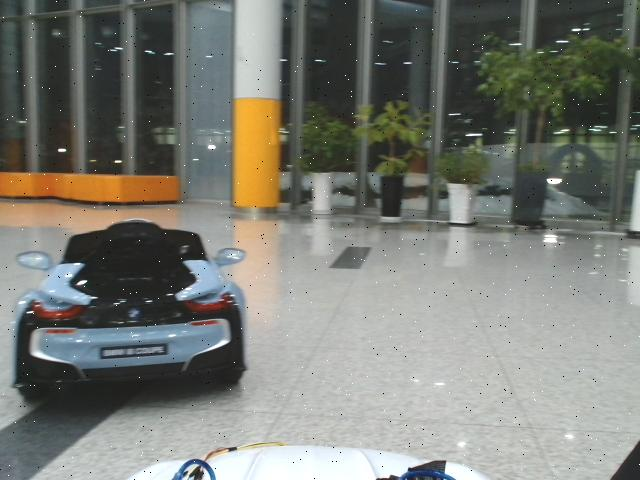car: (14, 220, 247, 400)
